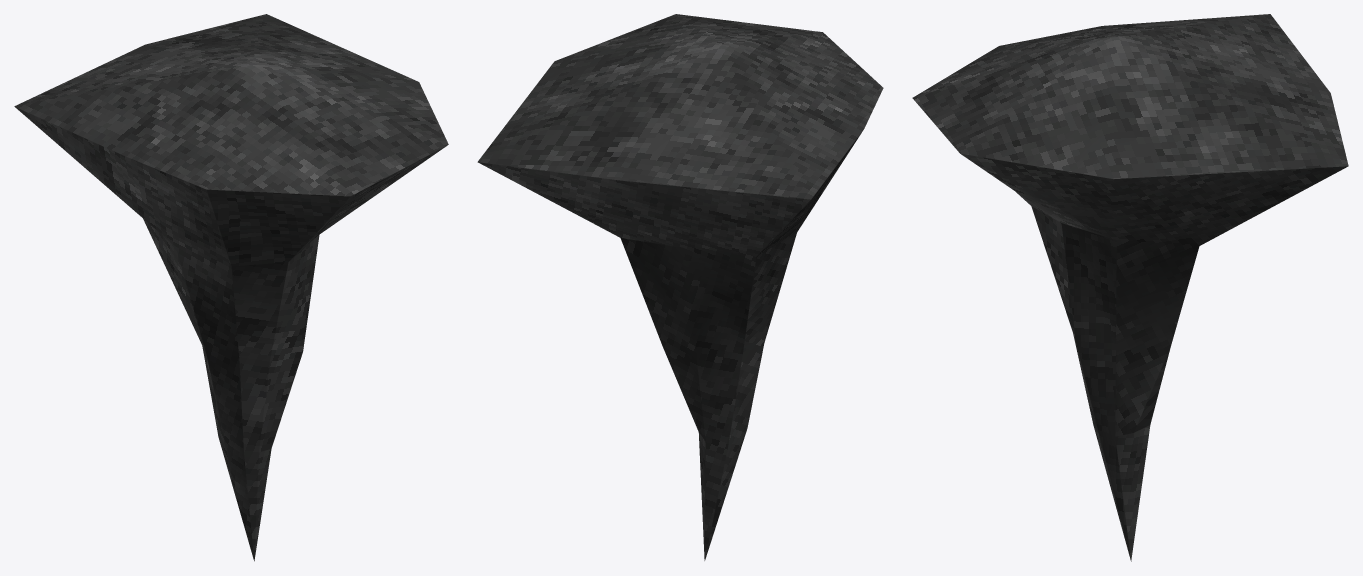
File: CaveStalagmite2.glb
3 views of the same model, side by side, from view 1: azimuth 30°, elevation 25°; view 2: azimuth 150°, elevation 25°; view 3: azimuth 270°, elevation 25° (orthographic). The views are drawn at different scales.
Parts seen in each view (by area): view 1: Cylinder.014; view 2: Cylinder.014; view 3: Cylinder.014.
Part boxes in pixels (bbox=[...]): Cylinder.014: bbox=[14, 14, 448, 561]; Cylinder.014: bbox=[477, 14, 883, 560]; Cylinder.014: bbox=[912, 14, 1348, 561].
Size of the model in its own units: 1.55 by 2.28 by 1.73.
1 material, 1 textured.
